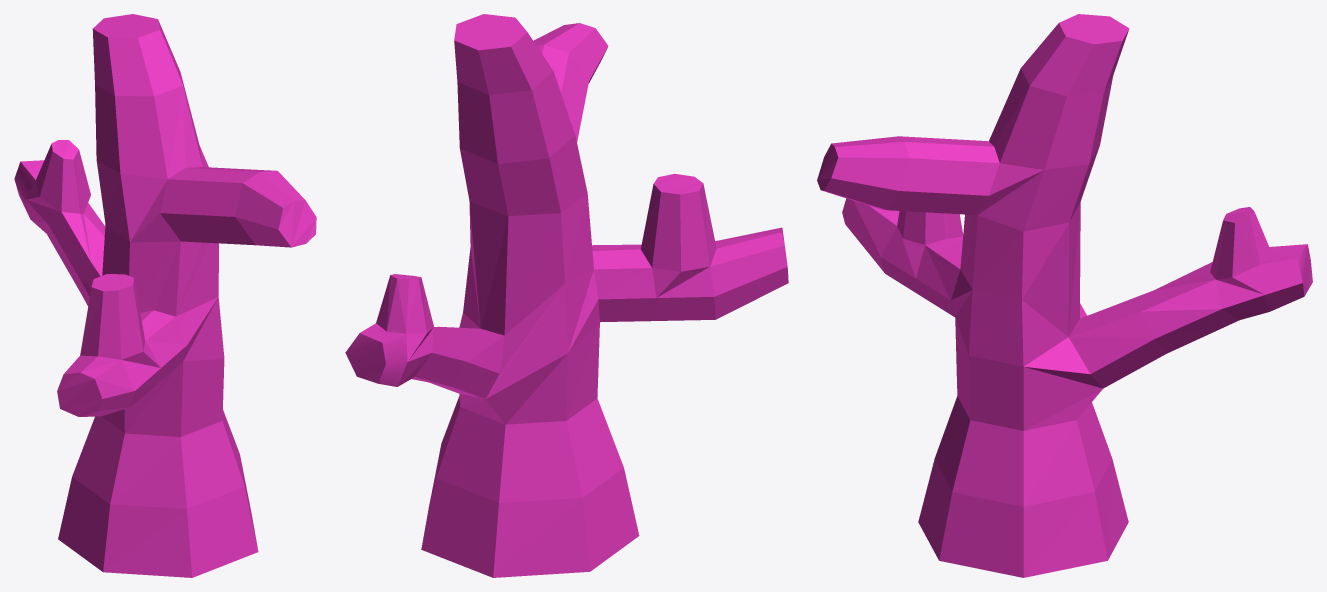
File: coral reef_01.fbx
The picture shows the model from 3 angles, left to right: view 1: azimuth 30°, elevation 25°; view 2: azimuth 150°, elevation 25°; view 3: azimuth 270°, elevation 25°; orthographic projection. The views are drawn at different scales.
Visible parts, largest first — view 1: Cylinder001; view 2: Cylinder001; view 3: Cylinder001.
Part boxes in pixels (left/top/right/bottom): Cylinder001: left=14, top=14, right=316, bottom=577; Cylinder001: left=345, top=14, right=788, bottom=577; Cylinder001: left=817, top=14, right=1312, bottom=577.
Bounding box in the file's own units: 36.93 × 65.55 × 58.23.
